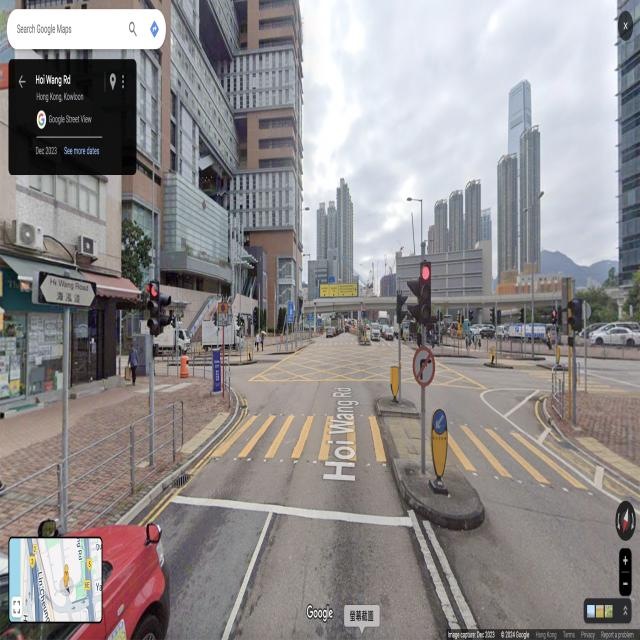Order-Sign: (412, 345, 436, 387), (434, 409, 446, 436), (217, 301, 229, 327)
Street-Direction-Sign: (39, 271, 97, 307)
